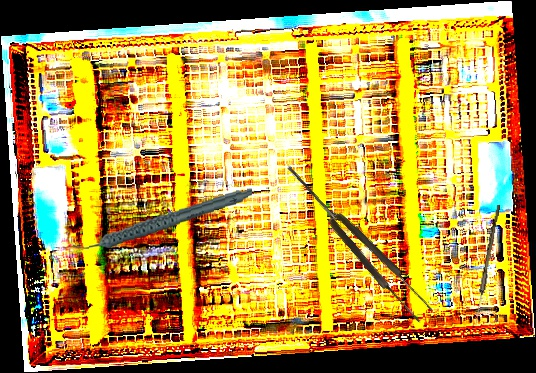Handpiece: (69, 187, 256, 251)
Surgical Spoon: (473, 204, 501, 324)
Tissue Forceps: (279, 156, 436, 327)
